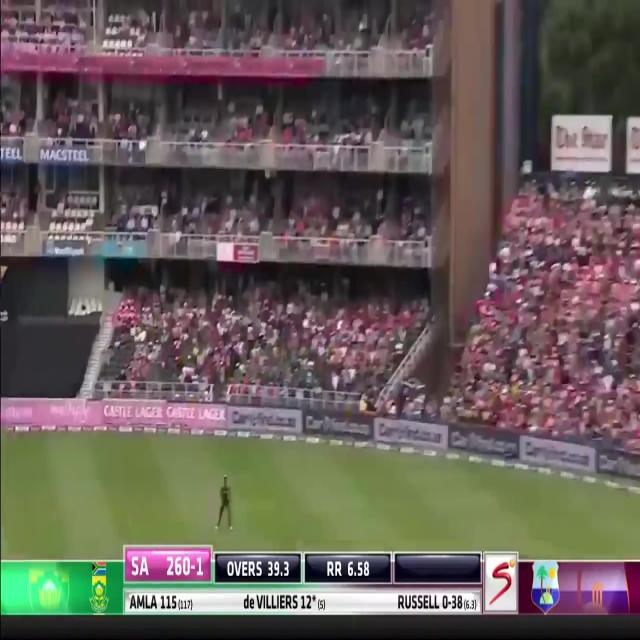Fielder: (214, 473, 238, 531)
